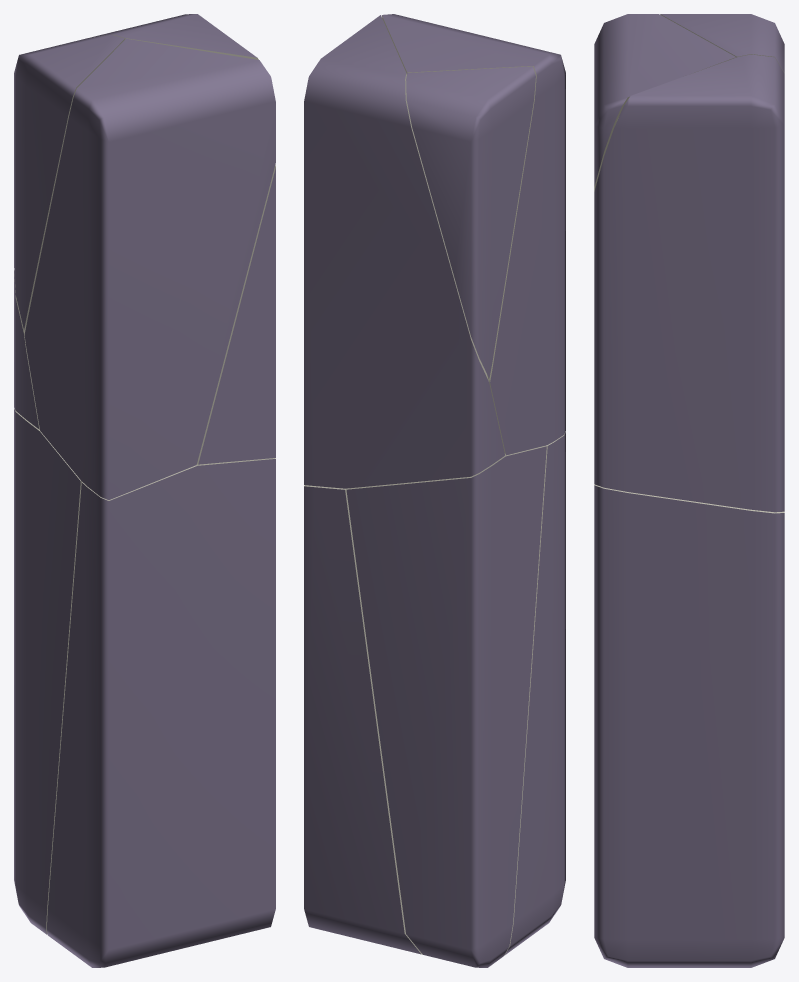
Rendered from SM_Gate_Fractured.glb.
3 views of the same model, side by side, from view 1: azimuth 30°, elevation 25°; view 2: azimuth 150°, elevation 25°; view 3: azimuth 270°, elevation 25° (orthographic).
Visible parts, largest first — view 1: SM_Gate_cell, SM_Gate_cell.003, SM_Gate_cell.001, SM_Gate_cell.002, SM_Gate_cell.004; view 2: SM_Gate_cell.001, SM_Gate_cell.002, SM_Gate_cell, SM_Gate_cell.003, SM_Gate_cell.004; view 3: SM_Gate_cell, SM_Gate_cell.002, SM_Gate_cell.003, SM_Gate_cell.004.
Part boxes in pixels (x1,y1,x2,y2): SM_Gate_cell: (47, 458, 275, 967); SM_Gate_cell.003: (24, 38, 275, 499); SM_Gate_cell.001: (14, 408, 81, 934); SM_Gate_cell.002: (14, 14, 275, 464); SM_Gate_cell.004: (14, 35, 124, 329); SM_Gate_cell.001: (346, 446, 546, 967); SM_Gate_cell.002: (304, 15, 505, 488); SM_Gate_cell: (304, 431, 565, 955); SM_Gate_cell.003: (382, 14, 565, 455); SM_Gate_cell.004: (406, 66, 535, 378); SM_Gate_cell: (594, 484, 784, 967); SM_Gate_cell.002: (594, 54, 784, 512); SM_Gate_cell.003: (594, 14, 736, 191); SM_Gate_cell.004: (660, 14, 784, 72).
Size of the model in its own units: 0.3554 by 1.68 by 0.3319.
1 material, 1 textured.
